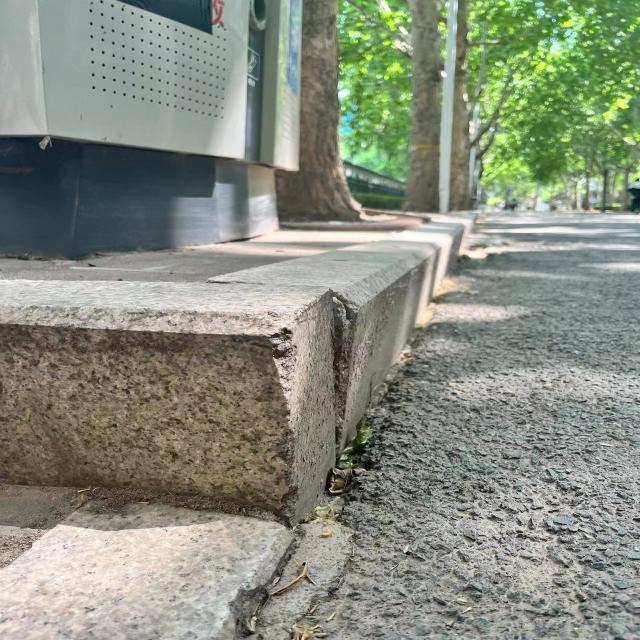curb: (4, 278, 354, 530), (228, 215, 469, 407)
